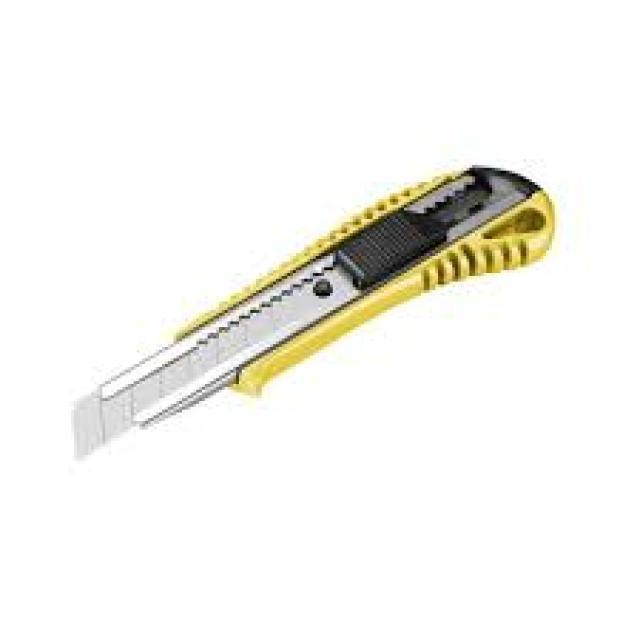cutter: (65, 153, 576, 478)
